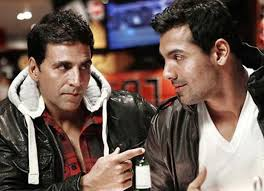Bad: (1, 1, 264, 189)
